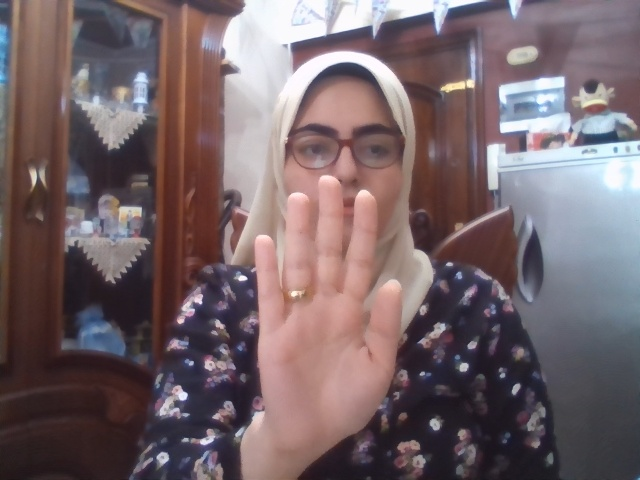hello: (257, 174, 403, 445)
